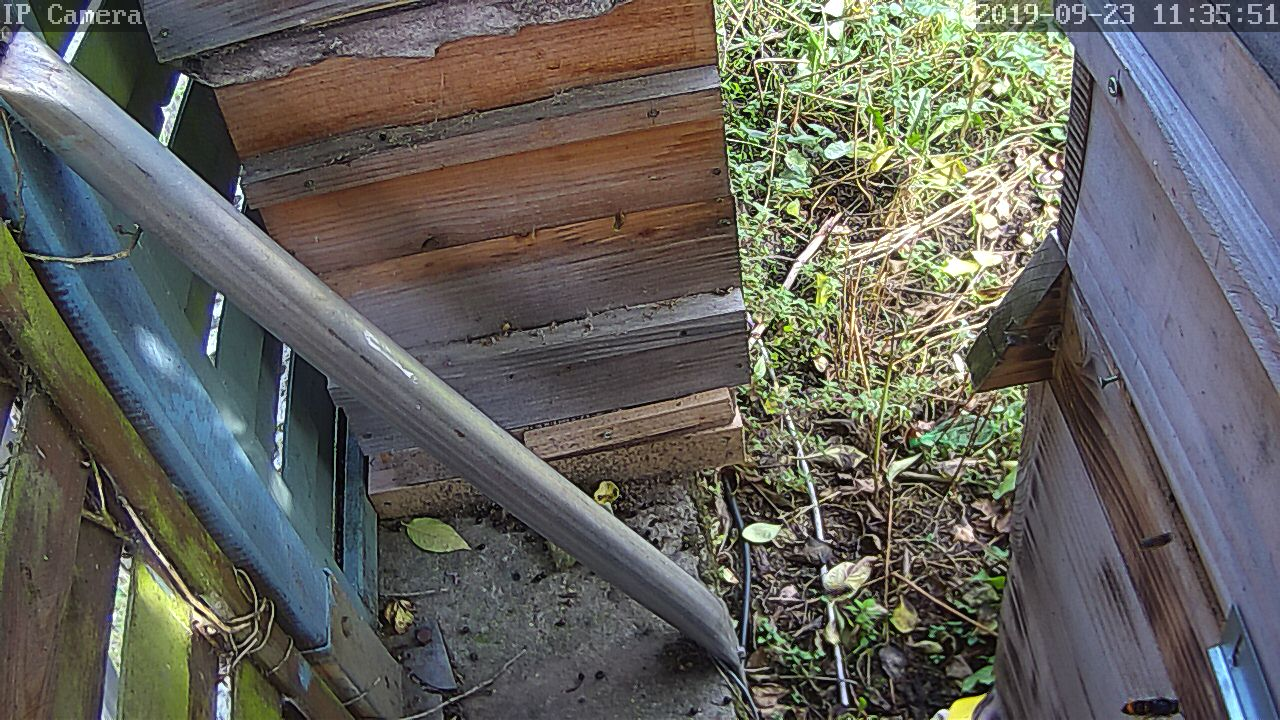bee: (1143, 526, 1184, 559)
hornet: (1113, 688, 1189, 719)
